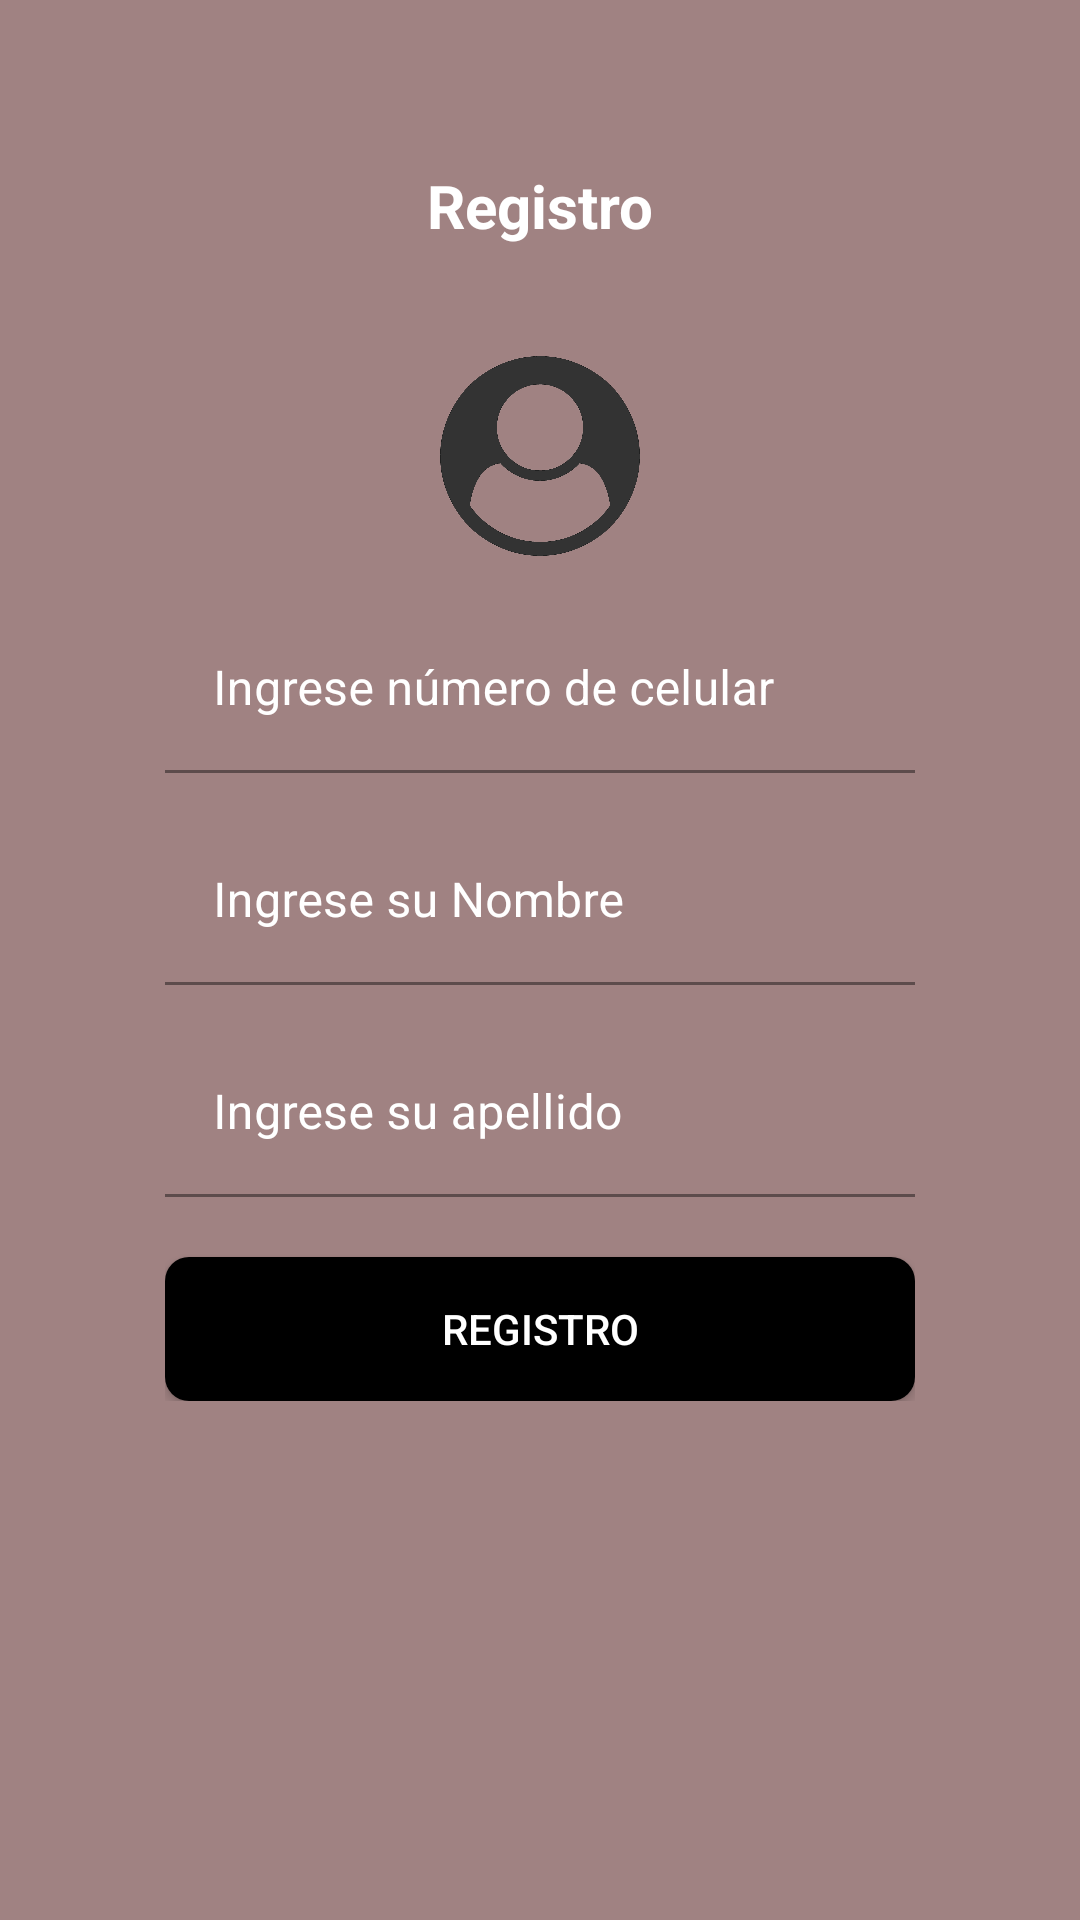

Named icons in this screenshot (1080w x 1920h) and their bounding boxes, (x1, y1, x2, y2):
perfil: (440, 356, 640, 556)
